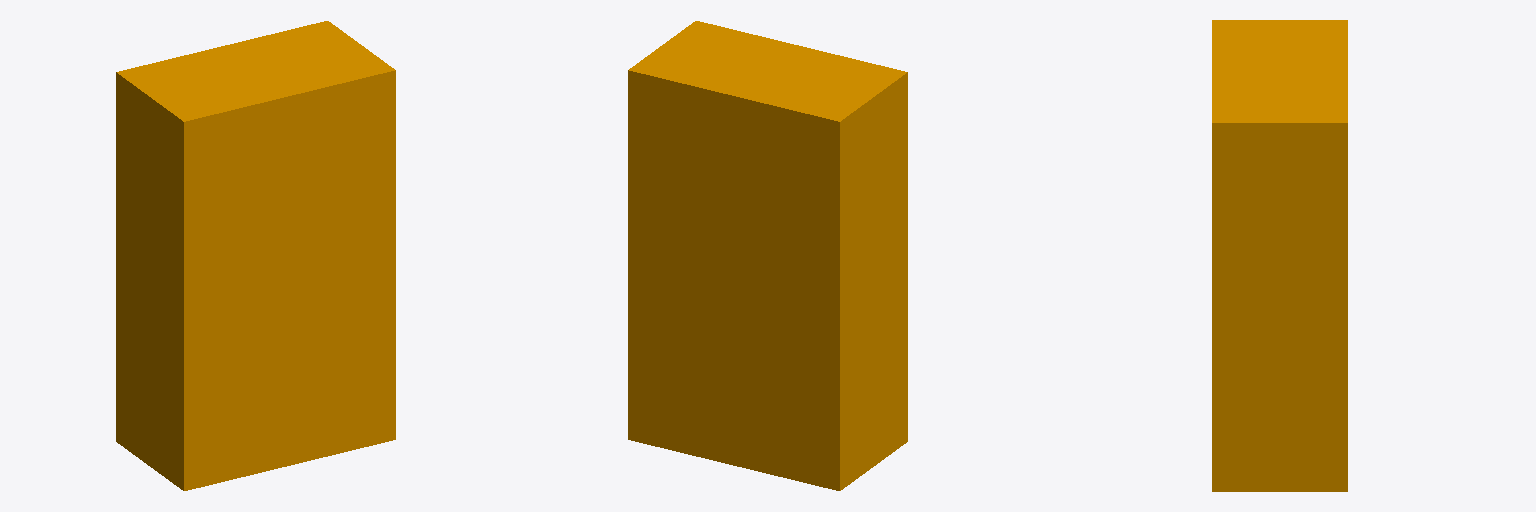
URDF robot description (peg_test):
<?xml version="1.0"?>
<robot name="peg_test">
    <link name="peg_test">
        <visual>
            <geometry>
                <mesh filename="../mesh/vitascope_pegs/peg_test.obj"/>
            </geometry>
        </visual>
        <collision>
            <geometry>
                <mesh filename="../mesh/vitascope_pegs/peg_test.obj"/>
            </geometry>
            <sdf resolution="256"/>
        </collision>
    </link>
</robot>

--- Facts derived from the render (not from the file) ---
The picture shows the robot from 3 angles, left to right: view 1: azimuth 30°, elevation 25°; view 2: azimuth 150°, elevation 25°; view 3: azimuth 270°, elevation 25°; orthographic projection.
Robot: peg_test — 1 links, 0 joints (none); root link peg_test; default pose: all joints at 0.
Visible links, largest first — view 1: peg_test; view 2: peg_test; view 3: peg_test.
Link boxes in pixels (x1,y1,x2,y2): peg_test: (116,21,395,490); peg_test: (628,21,907,490); peg_test: (1212,20,1347,491).
Bounding box of the posed robot: 0.09 × 0.05 × 0.15 m (x, y, z).
1 mesh visuals loaded from 1 distinct referenced files (1 OBJ).
